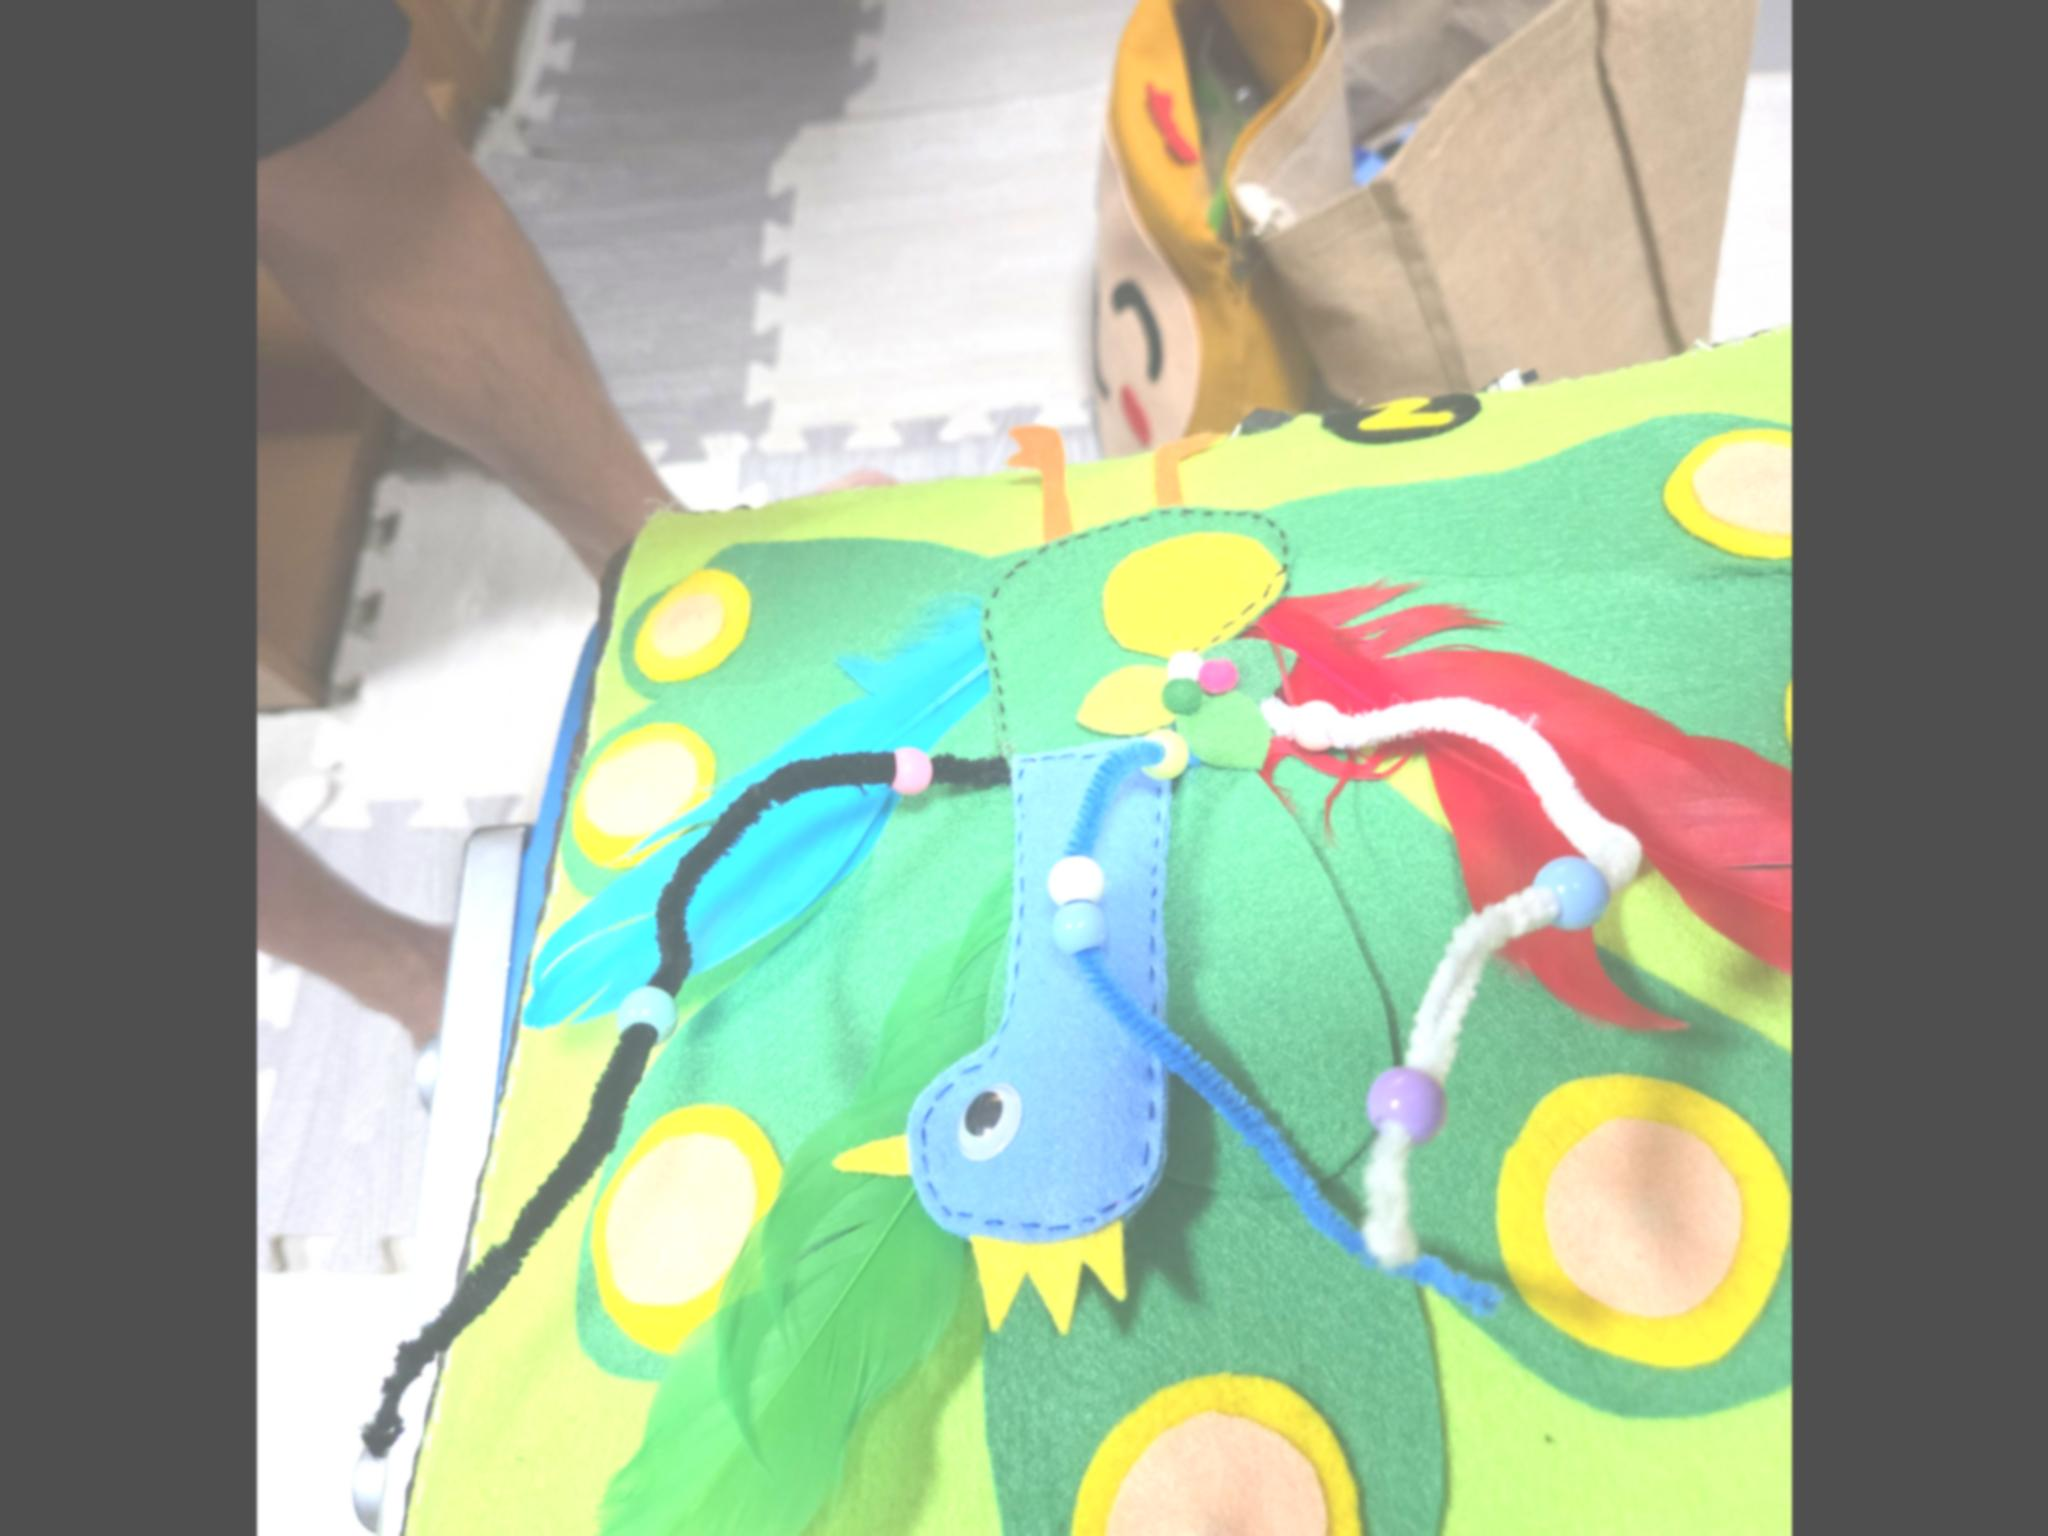bead: (1355, 1055, 1459, 1142), (1529, 852, 1614, 934), (614, 976, 695, 1050), (1040, 902, 1121, 949), (1135, 728, 1193, 789), (1285, 694, 1342, 755), (1043, 845, 1106, 900), (880, 747, 943, 794)
